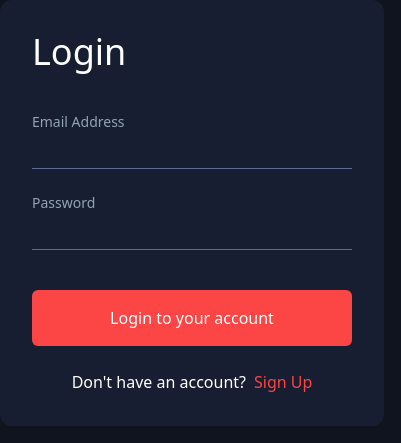
Test: ommiting an email results in a error message
Type "test12345" into the password field labelled "Password".
click(192, 238); type("test12345")  # box [32,225,352,250]
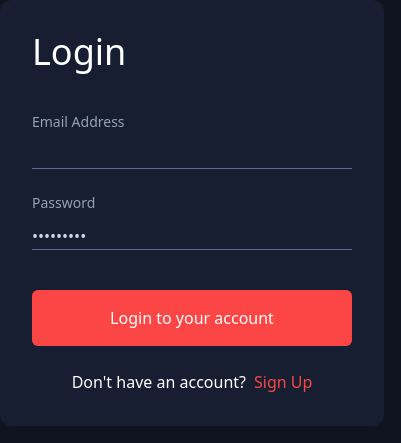
Click the button "Login to your account".
click(192, 318)  # box [32,290,352,346]
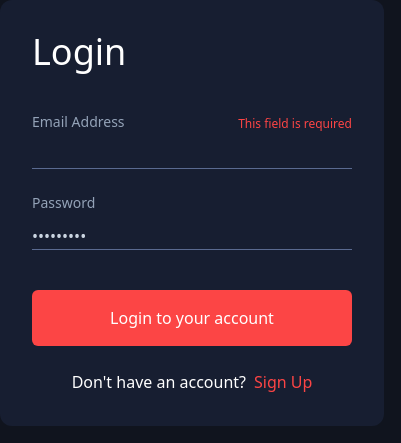
expect the message reads "This field is required": met, box [238,115,352,132]
